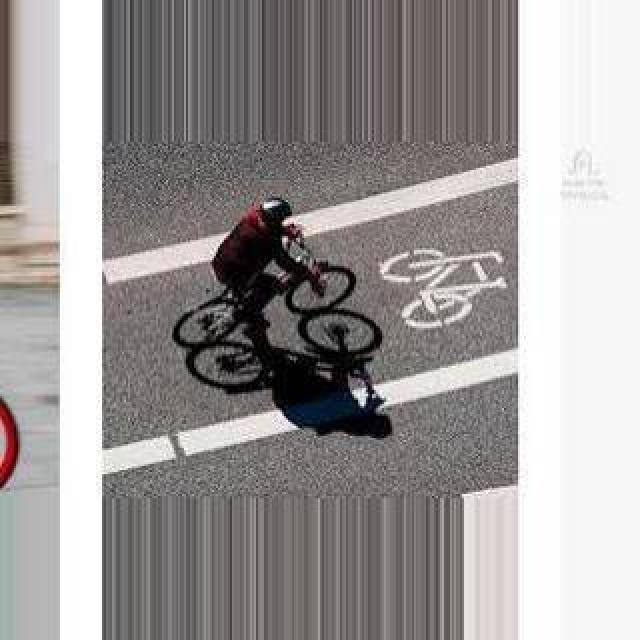MC-Bike: (210, 194, 300, 298)
Person: (160, 254, 358, 352)
